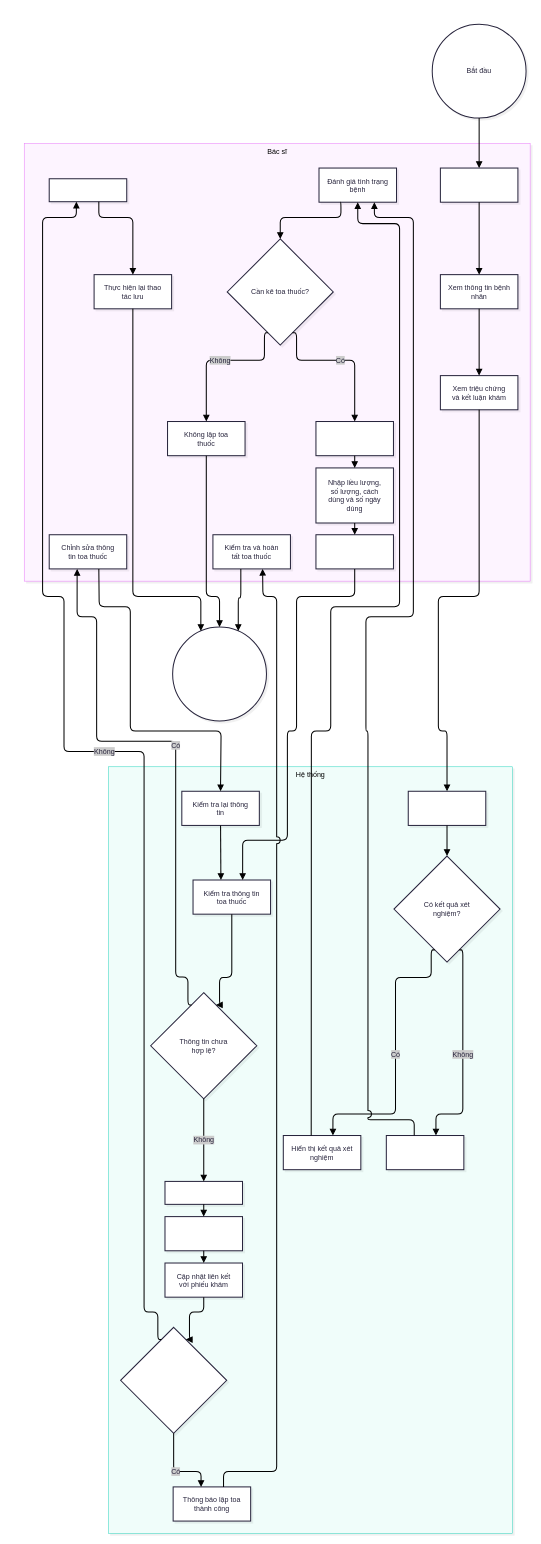
The diagram is 541 pixels wide and 1544 high, and some of its shapes have lost their labels. Each missing label, with the centre of its shape:
"Chọn thuốc điều trị" goes at point 355,439.
"Kiểm tra kết quả xét nghiệm" goes at point 447,809.
"Kết thúc" goes at point 220,674.
"Lưu chi tiết toa thuốc" goes at point 204,1234.
"Lưu thành công?" goes at point 174,1381.
"Lưu toa thuốc" goes at point 204,1194.
"Mở phiếu khám bệnh" goes at point 480,186.
"Nhập lời dặn nếu có" goes at point 355,552.
"Thông báo lỗi" goes at point 88,191.
"Tiếp tục dựa trên kết quả khám" goes at point 426,1153.
